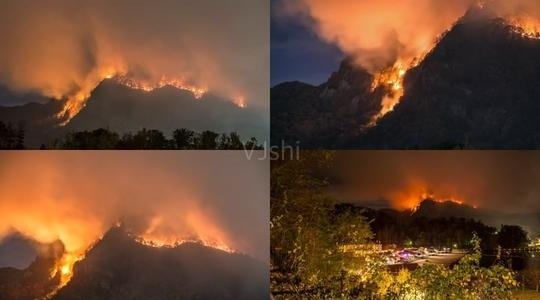fire: (353, 1, 484, 124), (2, 204, 105, 294), (136, 209, 246, 253), (107, 64, 241, 99), (54, 61, 114, 124), (385, 178, 478, 209)
